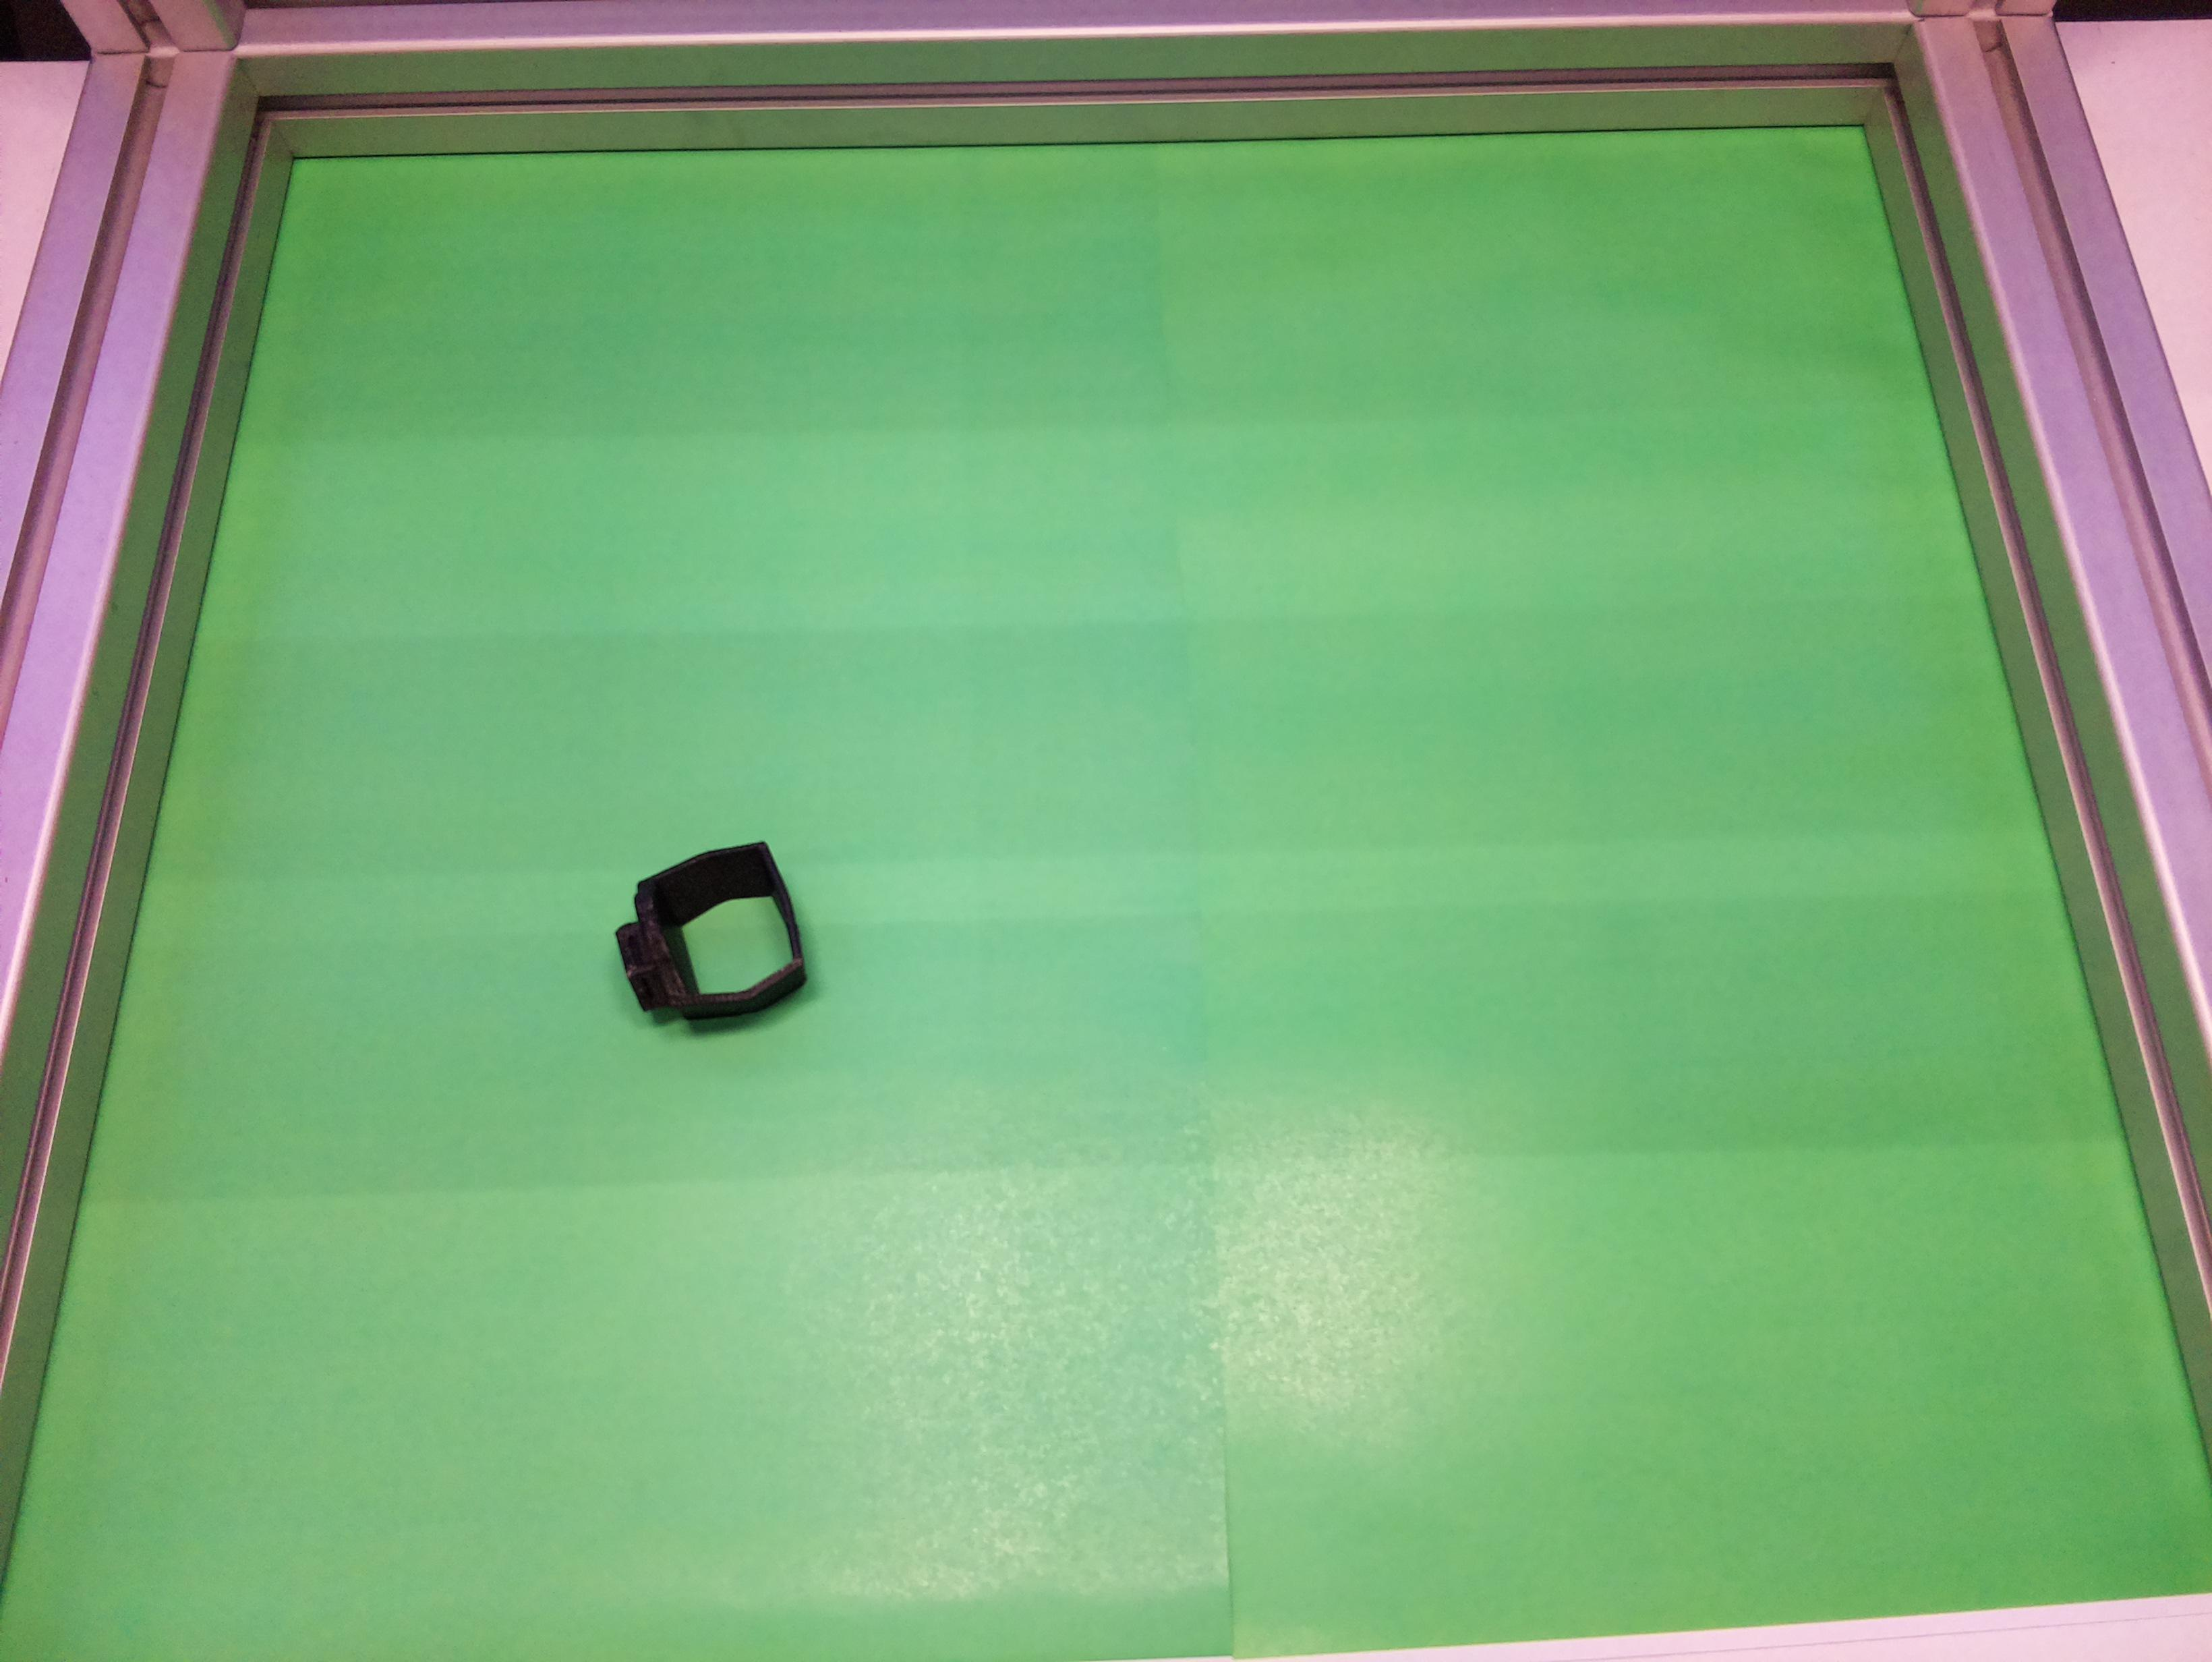scissor_holder: (601, 833, 819, 1046)
